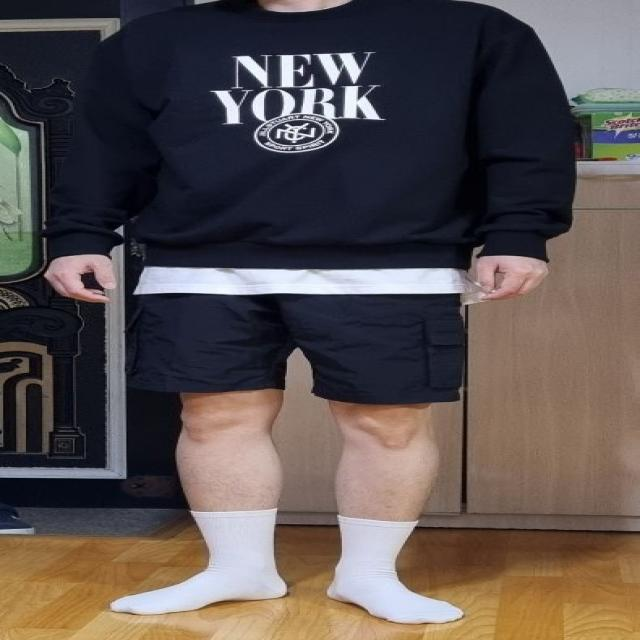mtm: (46, 0, 576, 268)
shortpants: (121, 286, 466, 409)
